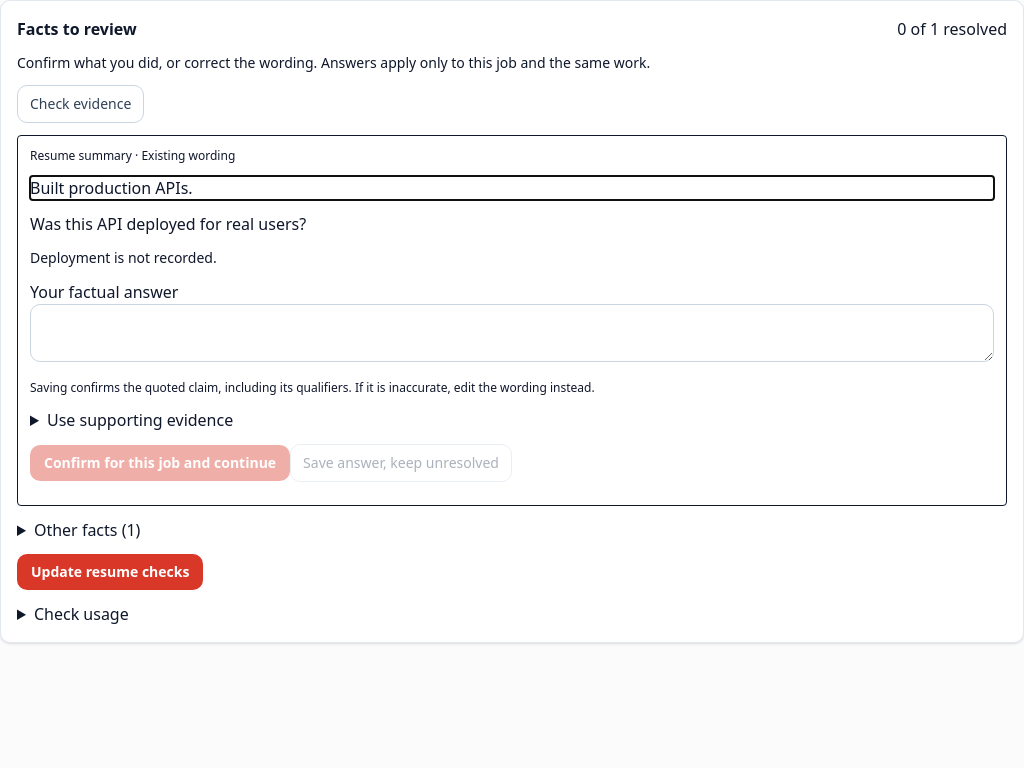
keeps an answer after failed saving and advances only when the server resolves the fact
Type "Deployed for customers." into the text box labelled "Your factual answer".
click(512, 333); type("Deployed for customers.")  # box left=30, top=304, right=994, bottom=362
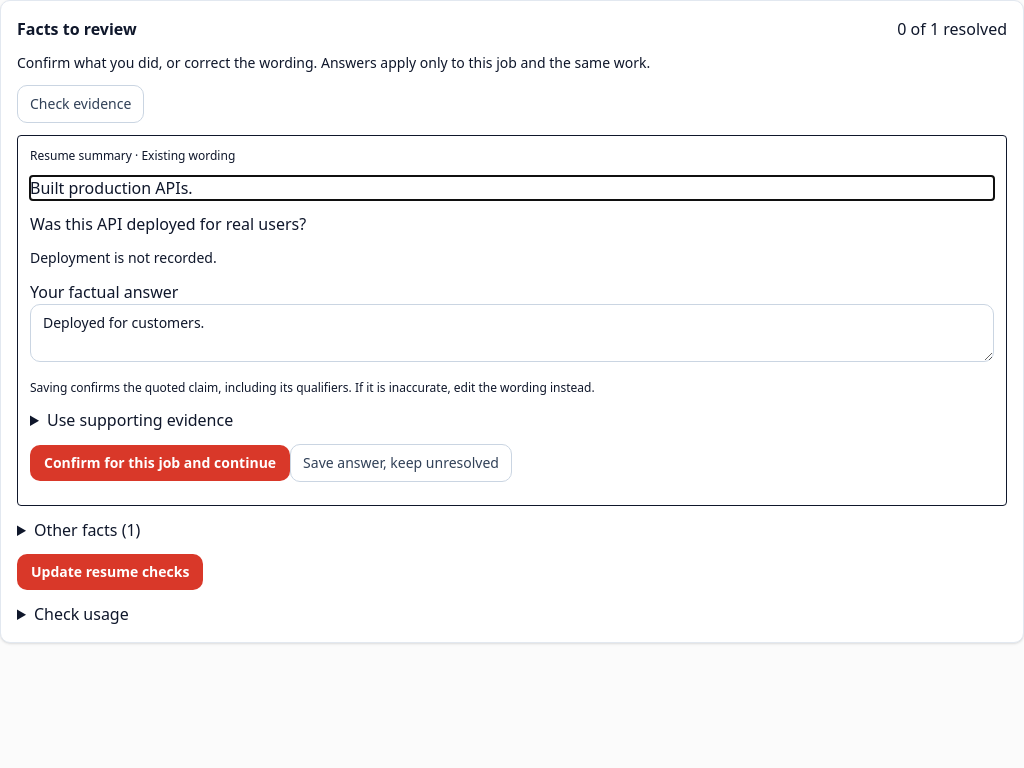
Click the button "Confirm for this job and continue".
click(160, 463)  # box left=30, top=445, right=290, bottom=481
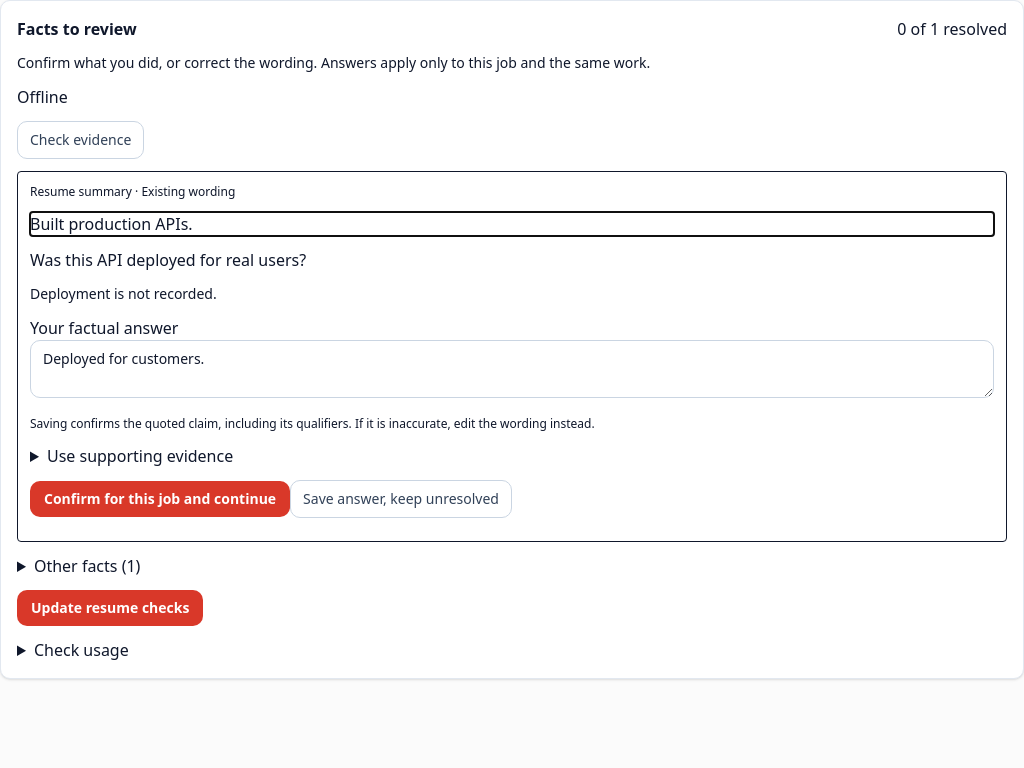
Result: the message "Offline" is shown at left=17, top=86, right=68, bottom=108
Click the button "Confirm for this job and continue".
click(160, 499)  # box left=30, top=481, right=290, bottom=517
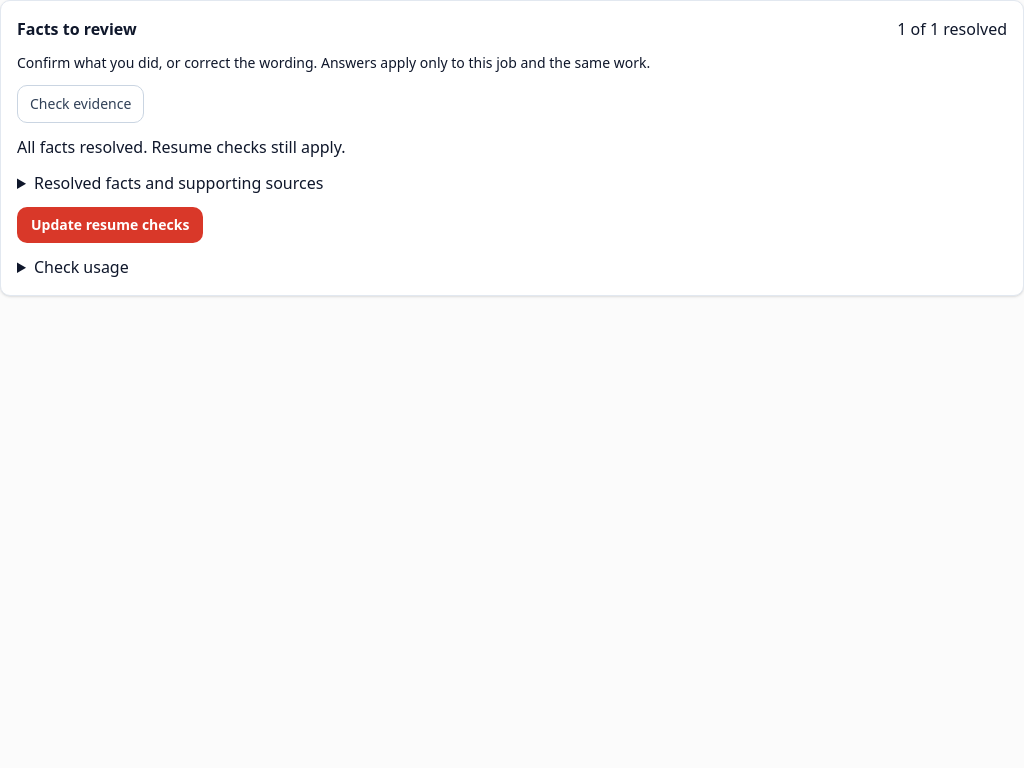
Result: the text "All facts resolved. Resume checks still apply." is shown at left=17, top=136, right=346, bottom=158
